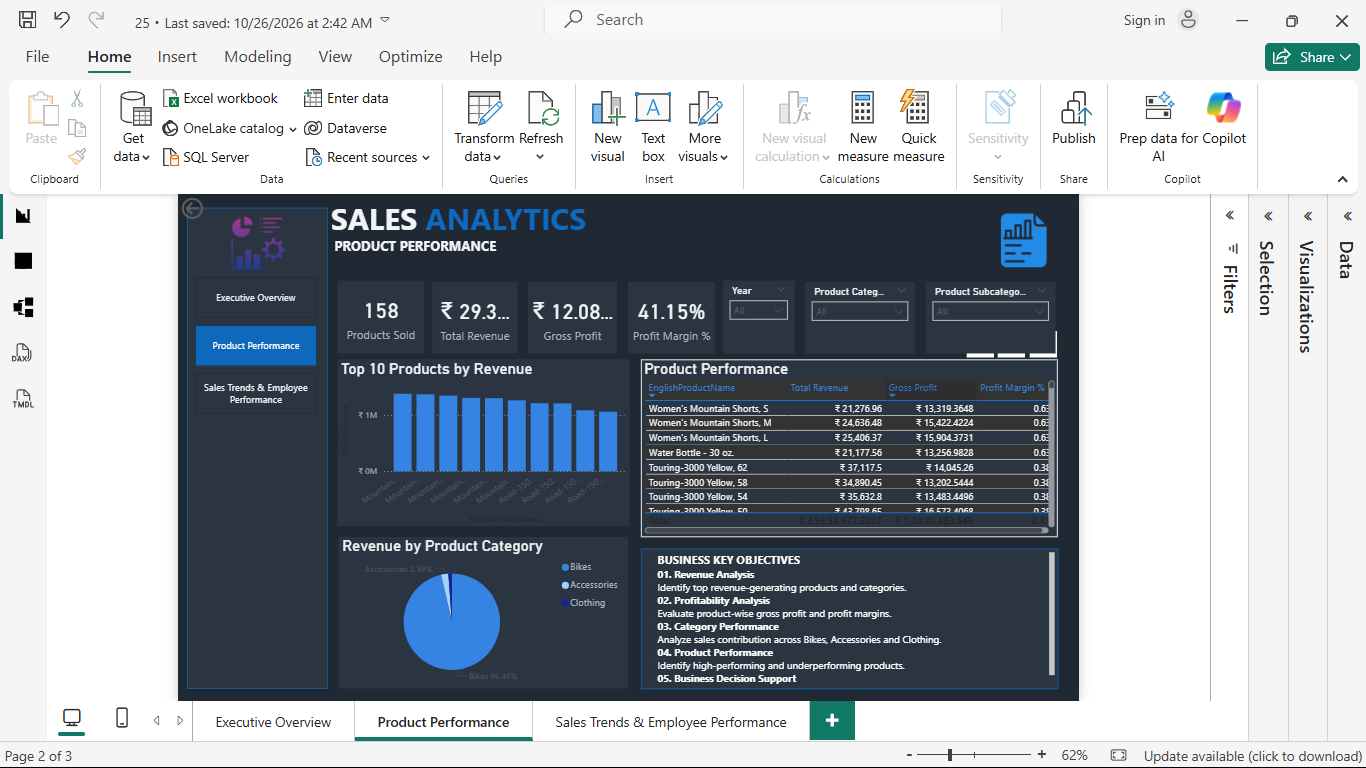

The dashboard page shown, as its layout file describes it:
{"tool":"powerbi","page":{"name":"Product Performance","canvas":[1280,720],"ordinal":1},"visuals":[{"type":"image","box":[1150.4,8.8,100.1,115.9],"z":0},{"type":"shape","box":[12.5,19.7,200.3,683.1],"z":1000},{"type":"image","box":[26.8,19.7,173.5,94.8],"z":2000},{"type":"pageNavigator","box":[25,118,173.5,194.9],"z":3000},{"type":"textbox","box":[212.8,0,377.3,119.8],"z":4000},{"type":"card","fields":{"Values":["DimProduct.Products Sold"]},"box":[226.2,123,123,103.2],"z":5000},{"type":"card","fields":{"Values":["DimCustomer.Gross Profit"]},"box":[497,124.7,126.5,101.9],"z":6000},{"type":"card","fields":{"Values":["DimCustomer.Profit Margin %"]},"box":[639.3,124.7,122.9,101.9],"z":7000},{"type":"card","fields":{"Values":["DimCustomer.Total Revenue"]},"box":[361.8,124.7,121.2,101.9],"z":8000},{"type":"clusteredColumnChart","title":"\tTop 10 Products by Revenue","fields":{"Category":["DimProduct.EnglishProductName"],"Y":["DimCustomer.Total Revenue"]},"box":[226.2,235,415.1,237.2],"z":9000},{"type":"pieChart","title":"\tRevenue by Product Category","fields":{"Category":["DimProductCategory.EnglishProductCategoryName"],"Y":["DimCustomer.Total Revenue"]},"box":[228.4,487.6,410.7,215.2],"z":10000},{"type":"tableEx","title":"Product Performance","fields":{"Values":["DimProduct.EnglishProductName","DimCustomer.Total Revenue","DimCustomer.Gross Profit","DimCustomer.Profit Margin %"]},"box":[656.7,235,593,252.6],"z":11000},{"type":"actionButton","box":[0,0,100,40],"z":12000},{"type":"slicer","fields":{"Values":["DimDate.CalendarYear"]},"box":[774.6,122.9,101.9,103.6],"z":13000},{"type":"slicer","fields":{"Values":["DimProductCategory.EnglishProductCategoryName"]},"box":[890.5,124.7,156.3,101.9],"z":14000},{"type":"slicer","fields":{"Values":["DimProductSubcategory.EnglishProductSubcategoryName"]},"box":[1062.6,124.7,184.4,101.9],"z":15000},{"type":"shape","box":[656.7,503,593,199.9],"z":16000},{"type":"textbox","box":[656.7,503,593,199.9],"z":17000}]}

Visuals, with their boxes on the page's 1280x720 design canvas (x1, y1, x2, y2). These are canvas units, not pixel positions in the 1366x768 screenshot, which may show the page scaled, cropped or inside an application window:
image: bbox=[1150, 9, 1250, 125]
shape: bbox=[12, 20, 213, 703]
image: bbox=[27, 20, 200, 114]
pageNavigator: bbox=[25, 118, 198, 313]
textbox: bbox=[213, 0, 590, 120]
card - DimProduct.Products Sold: bbox=[226, 123, 349, 226]
card - DimCustomer.Gross Profit: bbox=[497, 125, 624, 227]
card - DimCustomer.Profit Margin %: bbox=[639, 125, 762, 227]
card - DimCustomer.Total Revenue: bbox=[362, 125, 483, 227]
"	Top 10 Products by Revenue" clusteredColumnChart: bbox=[226, 235, 641, 472]
"	Revenue by Product Category" pieChart: bbox=[228, 488, 639, 703]
"Product Performance" tableEx: bbox=[657, 235, 1250, 488]
actionButton: bbox=[0, 0, 100, 40]
slicer - DimDate.CalendarYear: bbox=[775, 123, 876, 226]
slicer - DimProductCategory.EnglishProductCategoryName: bbox=[890, 125, 1047, 227]
slicer - DimProductSubcategory.EnglishProductSubcategoryName: bbox=[1063, 125, 1247, 227]
shape: bbox=[657, 503, 1250, 703]
textbox: bbox=[657, 503, 1250, 703]
